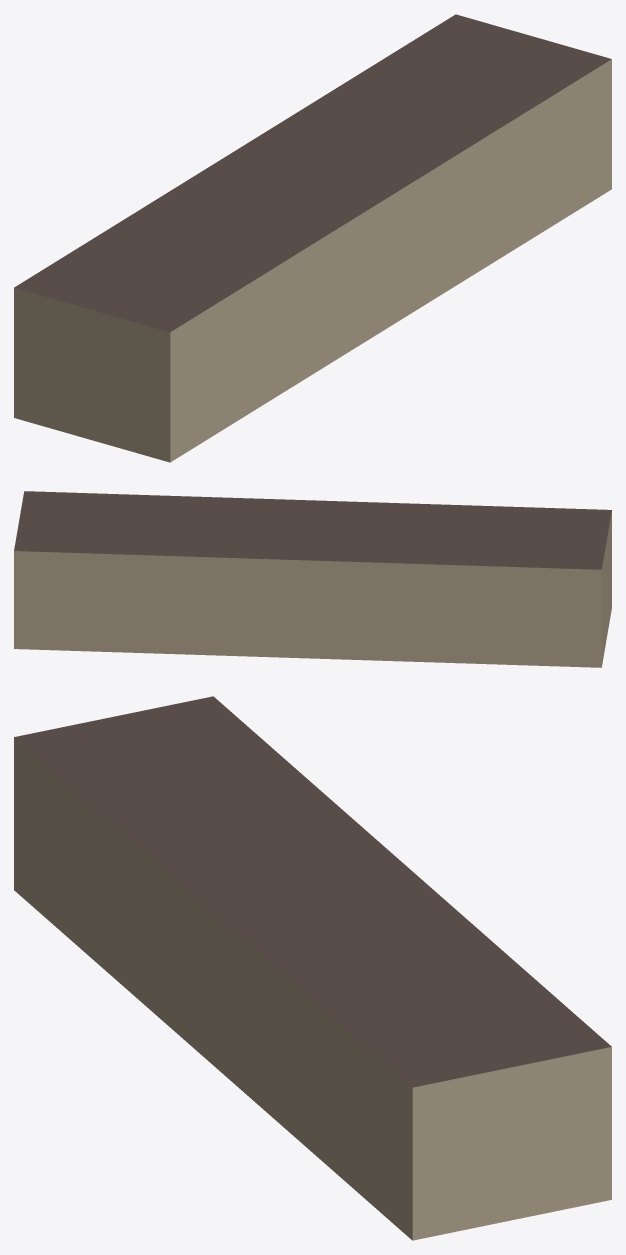
3 renders of one model, top to bottom at view 1: azimuth 30°, elevation 25°; view 2: azimuth 150°, elevation 25°; view 3: azimuth 270°, elevation 25°, orthographic. The views are drawn at different scales.
Visible parts, largest first — view 1: HP-w859447953; view 2: HP-w859447953; view 3: HP-w859447953.
Boxes of the visible parts, x1,y1,x2,y2 form: HP-w859447953: (14, 14, 611, 462); HP-w859447953: (14, 491, 611, 667); HP-w859447953: (14, 696, 611, 1240).
Bounding box in the file's own units: 49.37 × 9 × 31.88.
